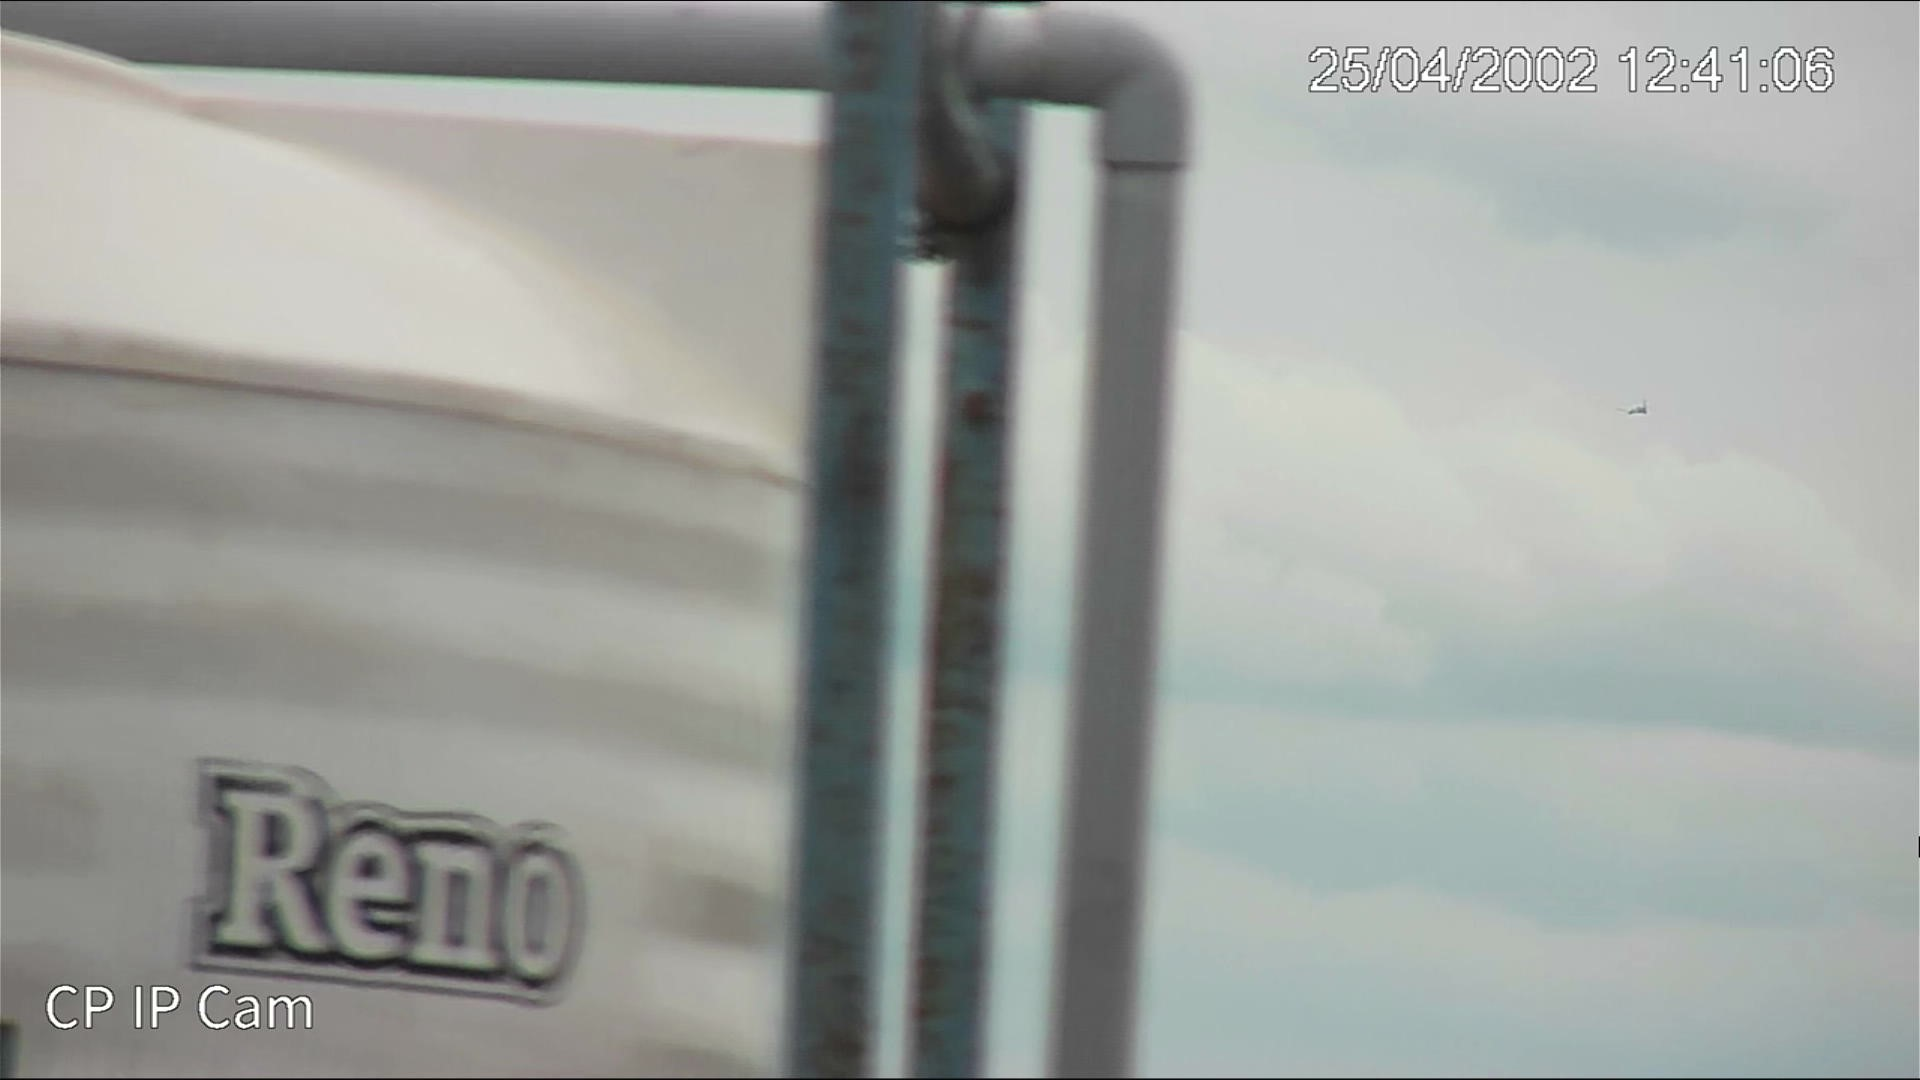SU_30: (1621, 400, 1650, 417)
